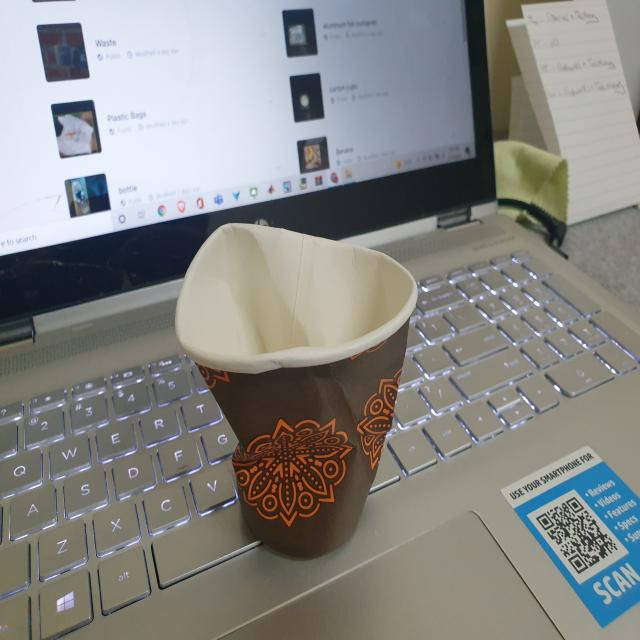cups: (168, 208, 425, 566)
